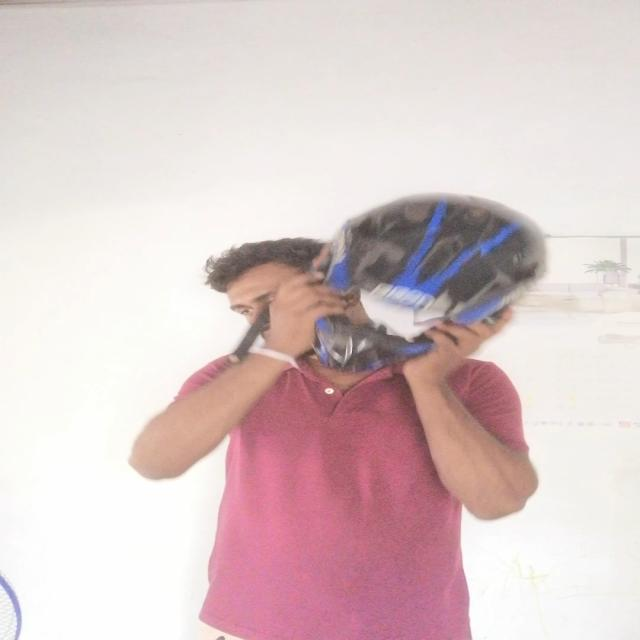Person: (124, 226, 546, 640)
